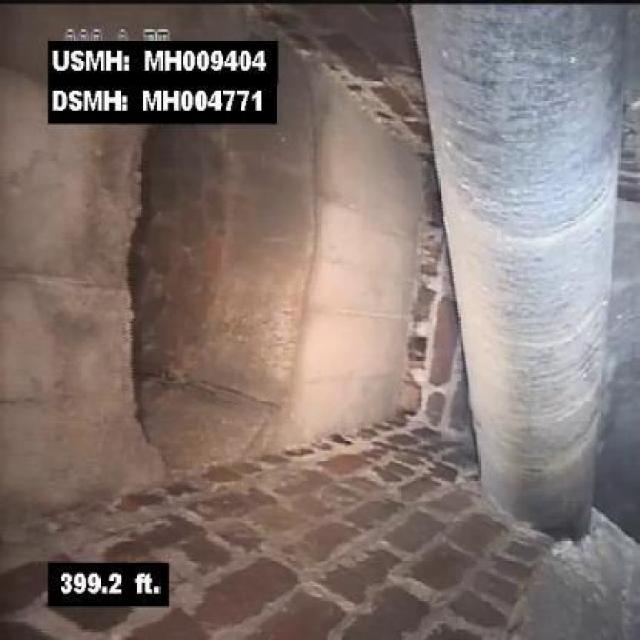Utility intrusion: (397, 0, 634, 549)
